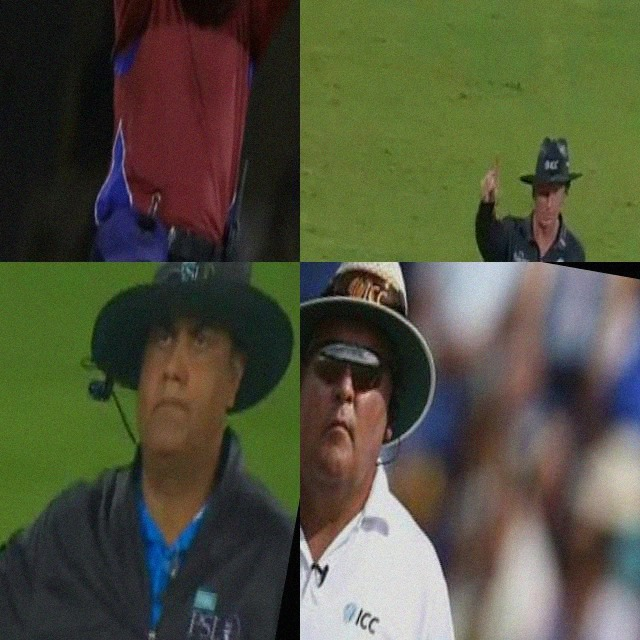No_Action: (300, 262, 582, 640)
No_Ball: (0, 262, 300, 640)
Out: (423, 114, 624, 262)
Six: (44, 0, 300, 262)
